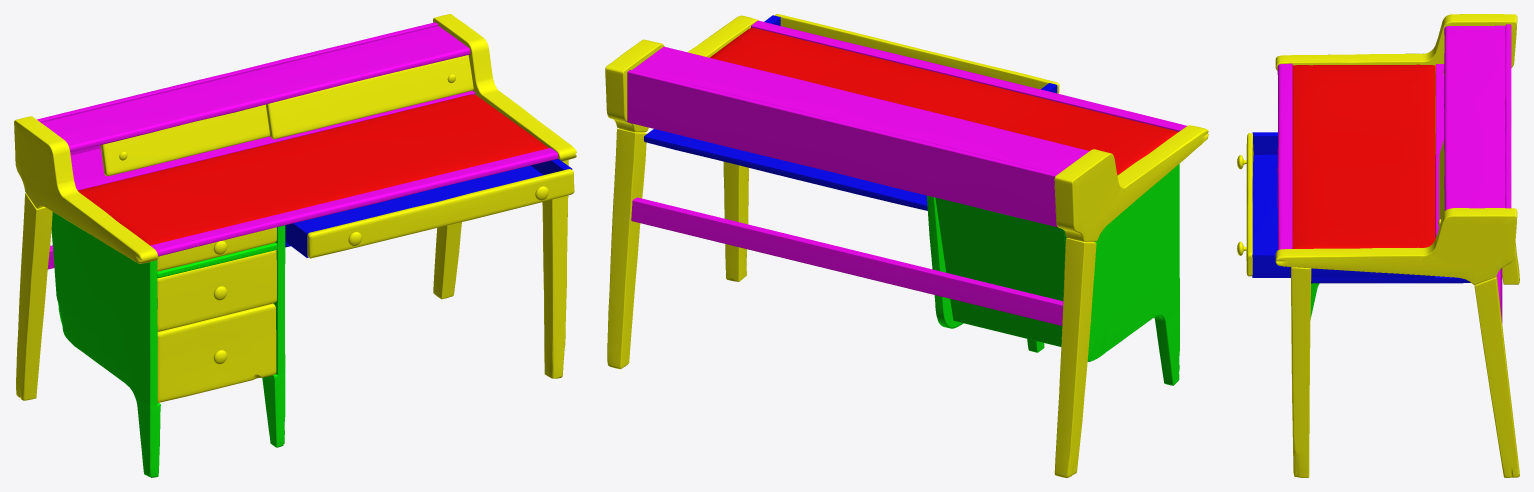
File: A01_Vin_Desk_01.fbx
3 views of the same model, side by side, from view 1: azimuth 30°, elevation 25°; view 2: azimuth 150°, elevation 25°; view 3: azimuth 270°, elevation 25° (orthographic). The views are drawn at different scales.
Visible parts, largest first — view 1: SM_Vin_Desk_05, SM_Vin_Desk_04, SM_Vin_Desk_01, SM_Vin_Desk_02, SM_Vin_Desk_03; view 2: SM_Vin_Desk_01, SM_Vin_Desk_05, SM_Vin_Desk_02, SM_Vin_Desk_04, SM_Vin_Desk_03; view 3: SM_Vin_Desk_04, SM_Vin_Desk_05, SM_Vin_Desk_01, SM_Vin_Desk_03.
Boxes of the visible parts, left/top/right/bottom form: SM_Vin_Desk_05: left=14, top=14, right=576, bottom=402; SM_Vin_Desk_04: left=78, top=94, right=548, bottom=245; SM_Vin_Desk_01: left=37, top=22, right=558, bottom=269; SM_Vin_Desk_02: left=51, top=212, right=285, bottom=477; SM_Vin_Desk_03: left=285, top=159, right=572, bottom=257; SM_Vin_Desk_01: left=627, top=20, right=1186, bottom=325; SM_Vin_Desk_05: left=605, top=14, right=1208, bottom=477; SM_Vin_Desk_02: left=927, top=164, right=1179, bottom=385; SM_Vin_Desk_04: left=710, top=28, right=1177, bottom=175; SM_Vin_Desk_03: left=643, top=15, right=1057, bottom=210; SM_Vin_Desk_04: left=1292, top=64, right=1435, bottom=248; SM_Vin_Desk_05: left=1237, top=14, right=1519, bottom=477; SM_Vin_Desk_01: left=1277, top=24, right=1511, bottom=322; SM_Vin_Desk_03: left=1252, top=132, right=1470, bottom=283.
Size of the model in its own units: 177 by 108 by 104.
